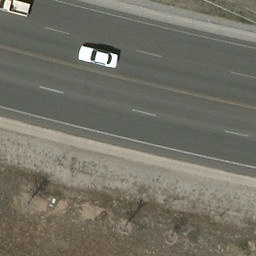car: (78, 47, 119, 71)
pickup: (0, 0, 32, 17)
